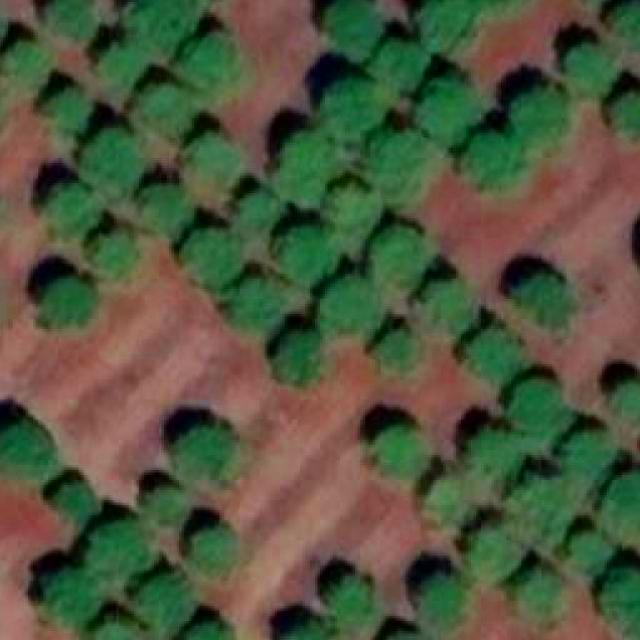Tree: (413, 75, 481, 146), (280, 131, 338, 201), (83, 128, 144, 193), (128, 0, 204, 51), (86, 522, 151, 581), (464, 324, 527, 384), (373, 226, 434, 287), (184, 35, 240, 101), (323, 77, 383, 138), (211, 279, 280, 332), (506, 87, 565, 148), (367, 133, 426, 193), (174, 427, 235, 485), (516, 274, 570, 339), (325, 178, 379, 243), (184, 228, 245, 282), (0, 422, 58, 478), (137, 80, 197, 134), (327, 0, 383, 57), (461, 131, 519, 186), (320, 279, 378, 334), (47, 567, 101, 626), (365, 39, 426, 88), (511, 475, 567, 528), (139, 573, 197, 624), (35, 279, 94, 329), (275, 228, 333, 278), (418, 0, 479, 47), (511, 379, 562, 435), (187, 136, 241, 186), (415, 574, 464, 629), (466, 428, 519, 478), (273, 332, 323, 385), (568, 42, 617, 91), (602, 569, 640, 632), (192, 525, 238, 576), (91, 226, 137, 277), (48, 183, 94, 234), (373, 428, 424, 473), (471, 530, 521, 574), (566, 433, 615, 476), (604, 473, 640, 528), (144, 186, 192, 227), (328, 575, 368, 624), (46, 477, 97, 515), (426, 282, 469, 327), (142, 485, 187, 528), (43, 87, 89, 128), (48, 0, 96, 39), (129, 623, 239, 640), (99, 47, 142, 89), (518, 565, 556, 611), (237, 190, 283, 228), (375, 329, 419, 367), (431, 475, 464, 520), (3, 42, 46, 76), (612, 89, 640, 138), (574, 530, 612, 566), (88, 618, 149, 640), (612, 382, 640, 423), (614, 2, 640, 42), (287, 623, 335, 640)
